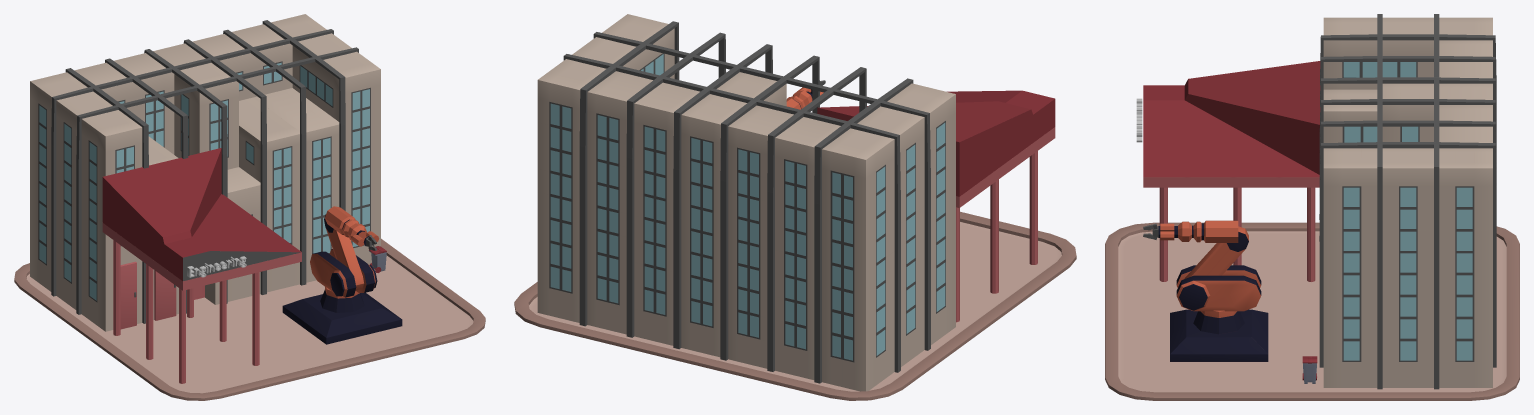
File: Engenharia_Level_03.fbx
The picture shows the model from 3 angles, left to right: view 1: azimuth 30°, elevation 25°; view 2: azimuth 150°, elevation 25°; view 3: azimuth 270°, elevation 25°; orthographic projection. The views are drawn at different scales.
Visible parts, largest first — view 1: Engenharia_level_01; view 2: Engenharia_level_01; view 3: Engenharia_level_01.
Part boxes in pixels (x1,y1,x2,y2): Engenharia_level_01: (14, 14, 485, 400); Engenharia_level_01: (514, 14, 1076, 400); Engenharia_level_01: (1105, 14, 1519, 400).
Bounding box in the file's own units: 2000 × 1186 × 2000.
